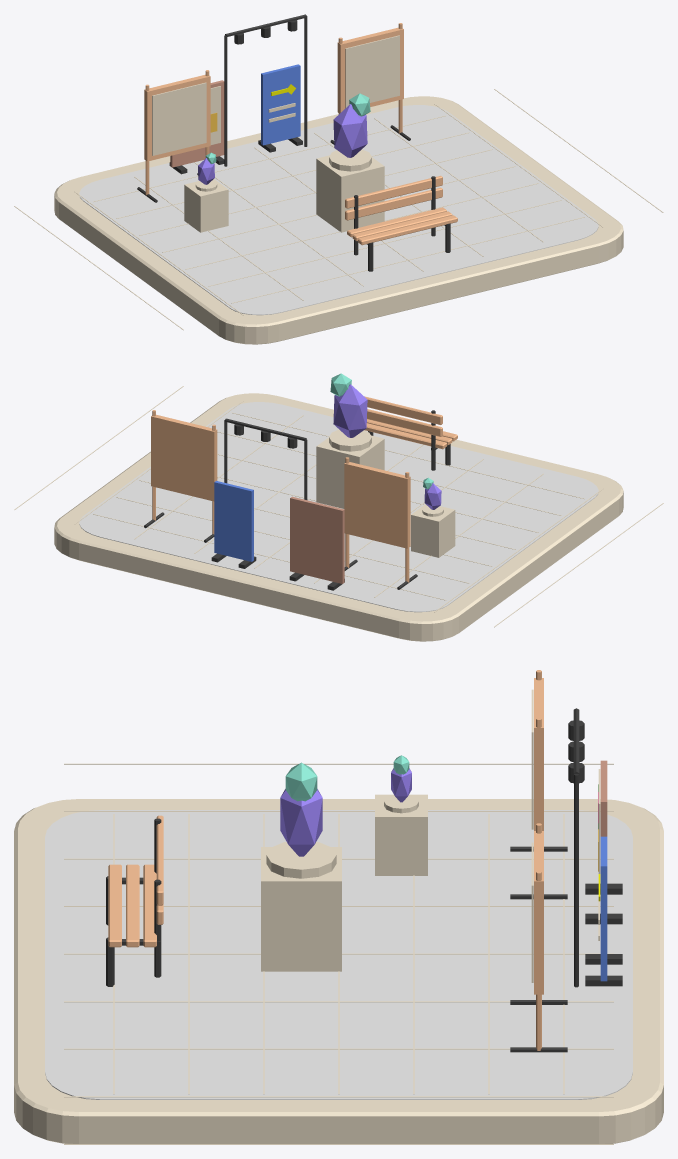
The picture shows the model from 3 angles, top to bottom: view 1: azimuth 30°, elevation 25°; view 2: azimuth 150°, elevation 25°; view 3: azimuth 270°, elevation 25°; orthographic projection. The views are drawn at different scales.
Parts seen in each view (by area): view 1: COM-02 Floor Surface, COM-01 Rounded Base Direct, Display plinth, Art surface, Art surface.001, Panel.001, Display plinth.001, Frame, Frame.001, Sculpture, Back slat.001, Back slat (+8 smaller); view 2: COM-02 Floor Surface, COM-01 Rounded Base Direct, Frame, Frame.001, Panel, Panel.001, Display plinth, Display plinth.001, Sculpture, Back slat.001, Back slat, Plinth (+2 smaller); view 3: COM-02 Floor Surface, COM-01 Rounded Base Direct, Display plinth, Display plinth.001, Sculpture, Plinth, Frame.001, Frame, Seat slat, Seat slat.001, Panel.001, Grout X.007 (+8 smaller).
Part boxes in pixels (left/top/right/bottom): COM-02 Floor Surface: left=79, top=105, right=598, bottom=315; COM-01 Rounded Base Direct: left=54, top=96, right=623, bottom=344; Display plinth: left=316, top=155, right=384, bottom=232; Art surface: left=152, top=82, right=206, bottom=155; Art surface.001: left=345, top=35, right=399, bottom=108; Panel.001: left=261, top=64, right=300, bottom=145; Display plinth.001: left=184, top=179, right=228, bottom=232; Frame: left=144, top=74, right=210, bottom=161; Frame.001: left=337, top=27, right=403, bottom=113; Sculpture: left=333, top=104, right=367, bottom=157; Back slat.001: left=345, top=175, right=442, bottom=208; Back slat: left=345, top=187, right=442, bottom=220; COM-02 Floor Surface: left=79, top=402, right=598, bottom=612; COM-01 Rounded Base Direct: left=54, top=393, right=623, bottom=641; Frame: left=344, top=462, right=410, bottom=548; Frame.001: left=151, top=414, right=217, bottom=501; Panel: left=290, top=496, right=344, bottom=583; Panel.001: left=214, top=481, right=253, bottom=561; Display plinth: left=316, top=435, right=384, bottom=508; Display plinth.001: left=411, top=504, right=455, bottom=557; Sculpture: left=333, top=384, right=367, bottom=437; Back slat.001: left=364, top=396, right=442, bottom=424; Back slat: left=367, top=409, right=442, bottom=436; Plinth: left=329, top=429, right=371, bottom=451; COM-02 Floor Surface: left=45, top=810, right=632, bottom=1099; COM-01 Rounded Base Direct: left=14, top=799, right=663, bottom=1143; Display plinth: left=261, top=847, right=341, bottom=971; Display plinth.001: left=375, top=794, right=427, bottom=875; Sculpture: left=280, top=789, right=322, bottom=856; Plinth: left=266, top=842, right=336, bottom=878; Frame.001: left=534, top=831, right=543, bottom=994; Frame: left=534, top=678, right=543, bottom=830; Seat slat: left=108, top=864, right=121, bottom=947; Seat slat.001: left=126, top=864, right=139, bottom=947; Panel.001: left=600, top=836, right=607, bottom=981; Grout X.007: left=64, top=1096, right=613, bottom=1097.
Bounding box in the file's own units: 7.21 × 2.19 × 5.2.
1 material, 1 textured.
